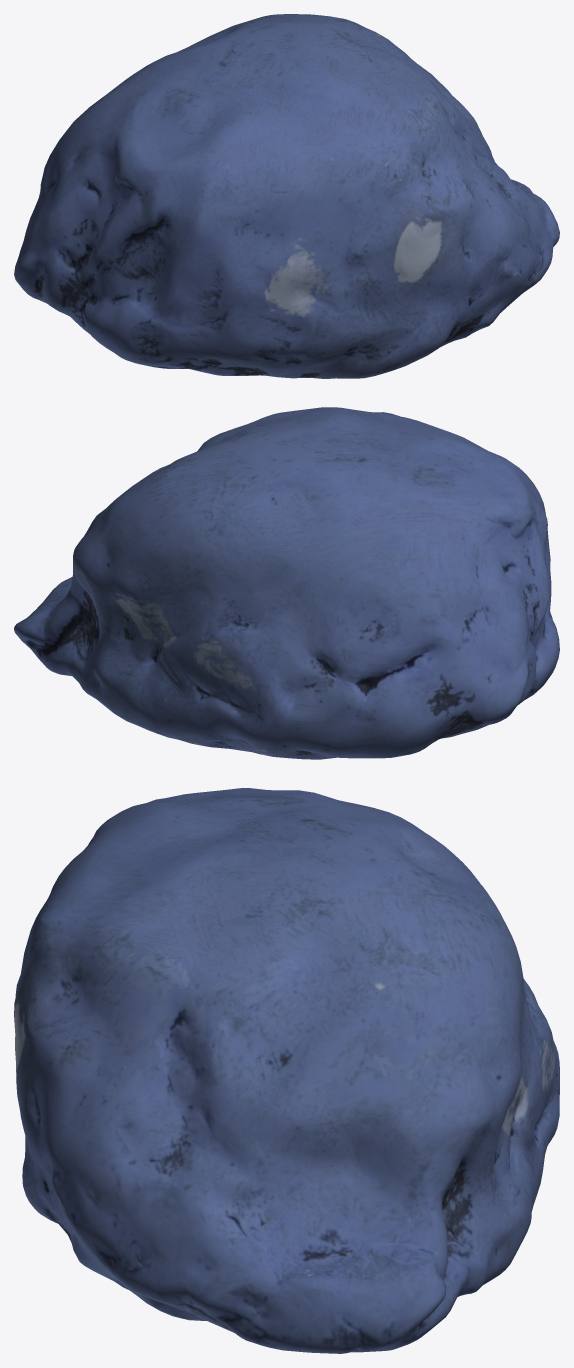
The model's file is Aindreas_Car.glb.
The picture shows the model from 3 angles, top to bottom: view 1: azimuth 30°, elevation 25°; view 2: azimuth 150°, elevation 25°; view 3: azimuth 270°, elevation 25°; orthographic projection. The views are drawn at different scales.
Visible parts, largest first — view 1: Aindreas_Car; view 2: Aindreas_Car; view 3: Aindreas_Car.
Boxes of the visible parts, bbox=[...] form: Aindreas_Car: bbox=[14, 14, 559, 378]; Aindreas_Car: bbox=[14, 407, 559, 759]; Aindreas_Car: bbox=[14, 788, 559, 1353].
Size of the model in its own units: 1.37 by 0.7137 by 0.9676.
Materials: 1 (1 with a texture image).
